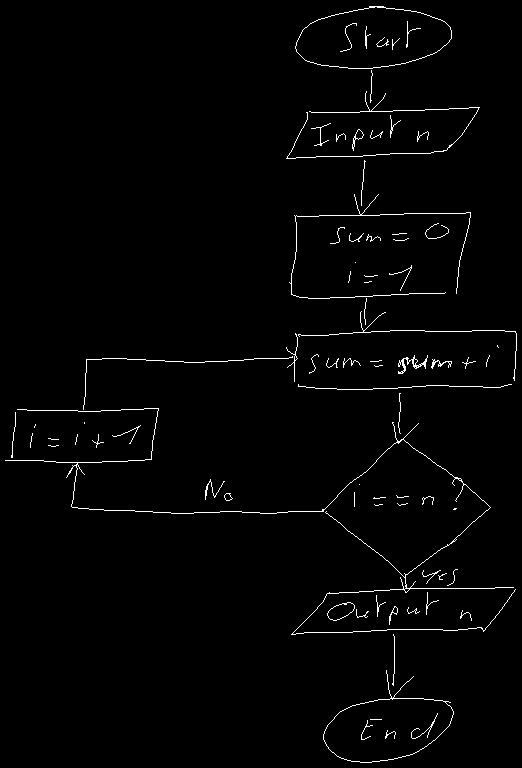arrow: (83, 347, 297, 409), (66, 463, 323, 513), (386, 634, 413, 699), (354, 160, 378, 215), (392, 393, 418, 443), (360, 298, 385, 331), (365, 70, 385, 111), (400, 573, 415, 592)
data: (291, 587, 515, 634), (286, 107, 479, 158)
decision: (322, 438, 490, 577)
process: (289, 212, 470, 298), (294, 330, 516, 389), (5, 408, 158, 462)
terminator: (295, 6, 451, 68), (323, 698, 453, 762)
text: (330, 223, 448, 290), (309, 345, 498, 373), (327, 592, 471, 624), (311, 115, 428, 150), (354, 477, 463, 509), (30, 422, 140, 447), (340, 21, 420, 51), (361, 713, 437, 739), (205, 479, 232, 500), (422, 569, 457, 585)
